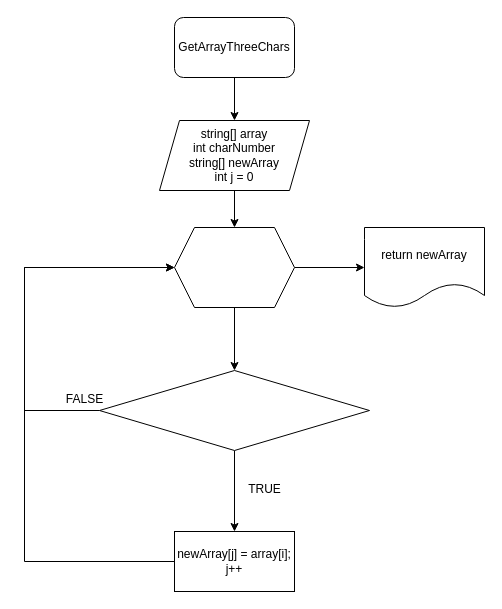
The diagram is 502 pixels wide and 609 high, and some of its shapes have lost their labels. The centre of each missing label's shape, as x and y in pixels:
array[i].Legth <= charNumber: (234,410)
int i =0; i < array.Length; i++: (234,267)
